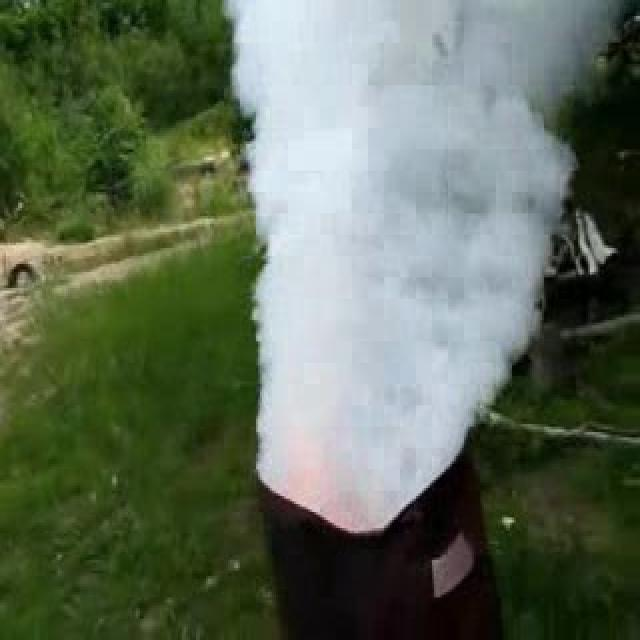Smoke: (216, 0, 620, 533)
